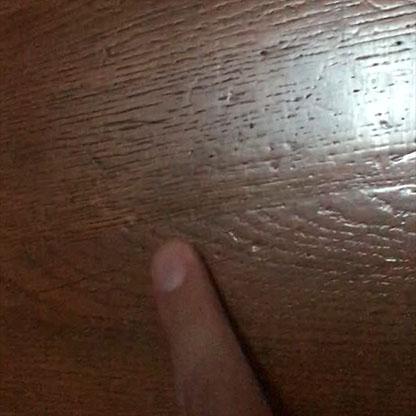fingertip: (142, 235, 221, 307)
